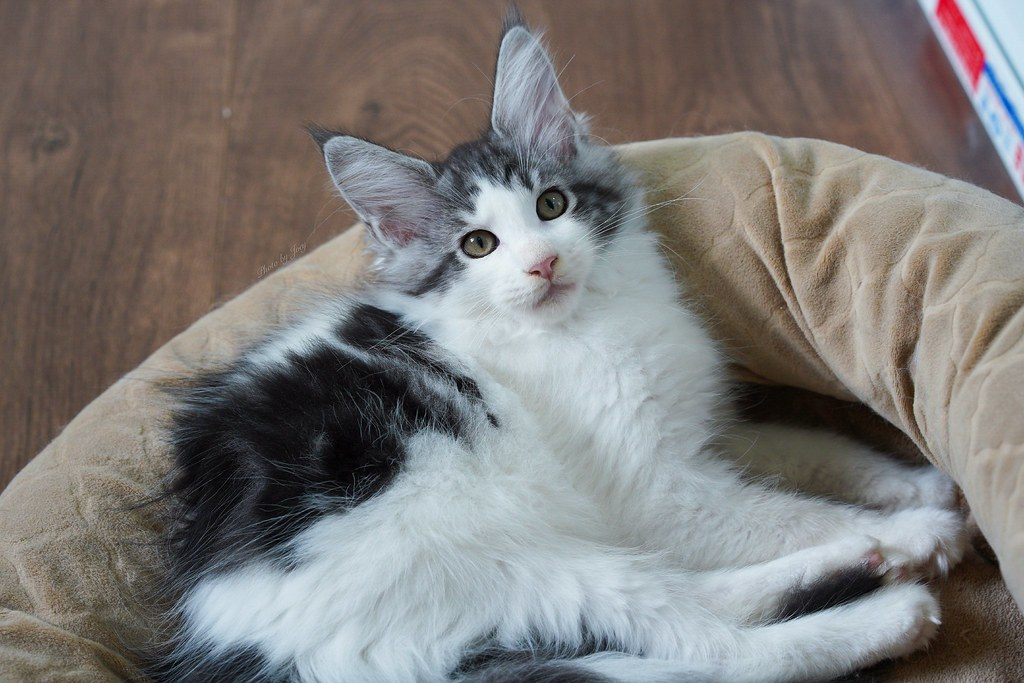cat: (106, 17, 1001, 673)
